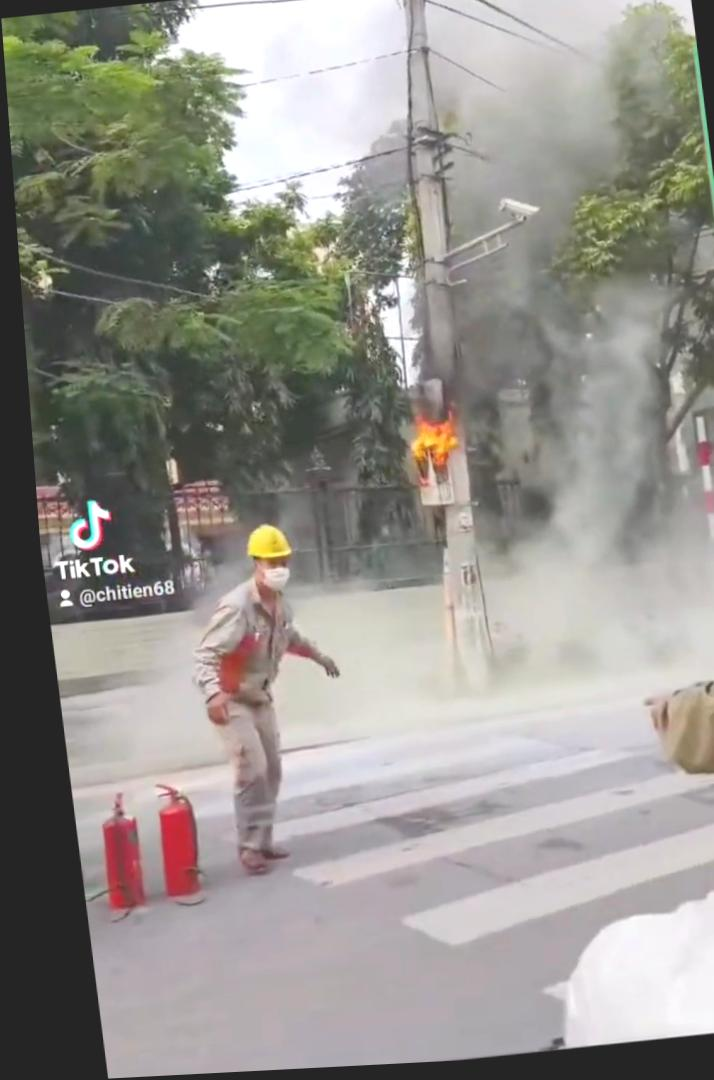FireExtinguisher: (72, 789, 149, 918), (139, 781, 202, 904)
not: (384, 400, 474, 507), (176, 631, 271, 710), (28, 477, 103, 567), (151, 474, 227, 551), (665, 422, 714, 538), (265, 624, 339, 700)
